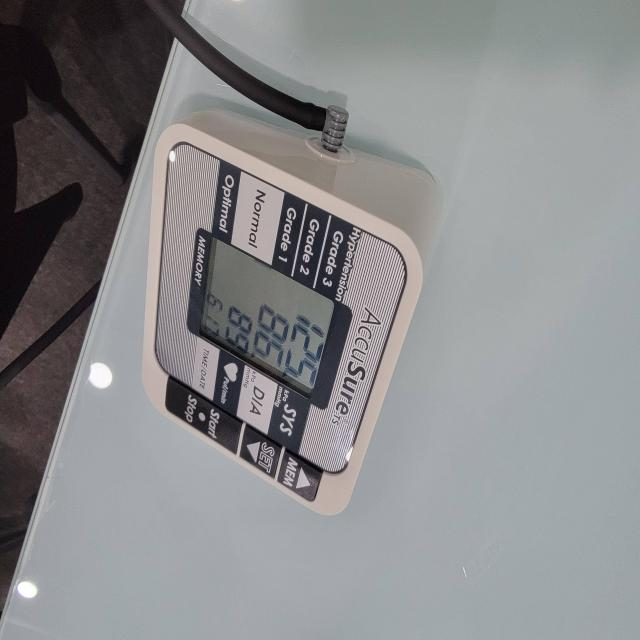bp: (155, 142, 421, 517)
